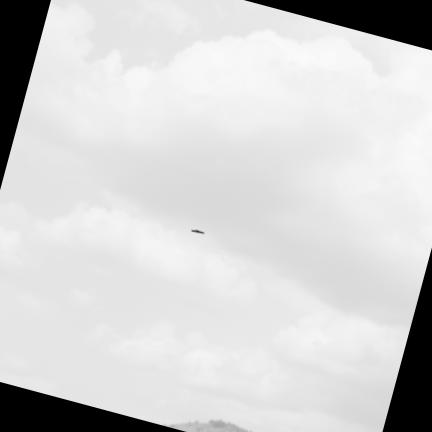Shahed: (191, 229, 204, 233)
